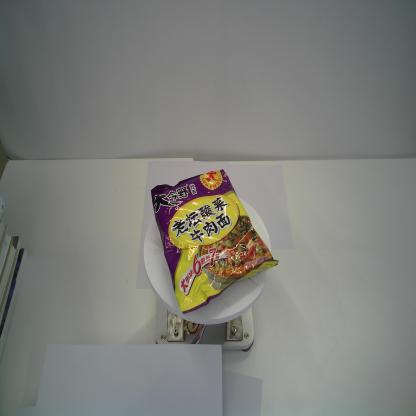Instant Noodles: (149, 168, 280, 317)
